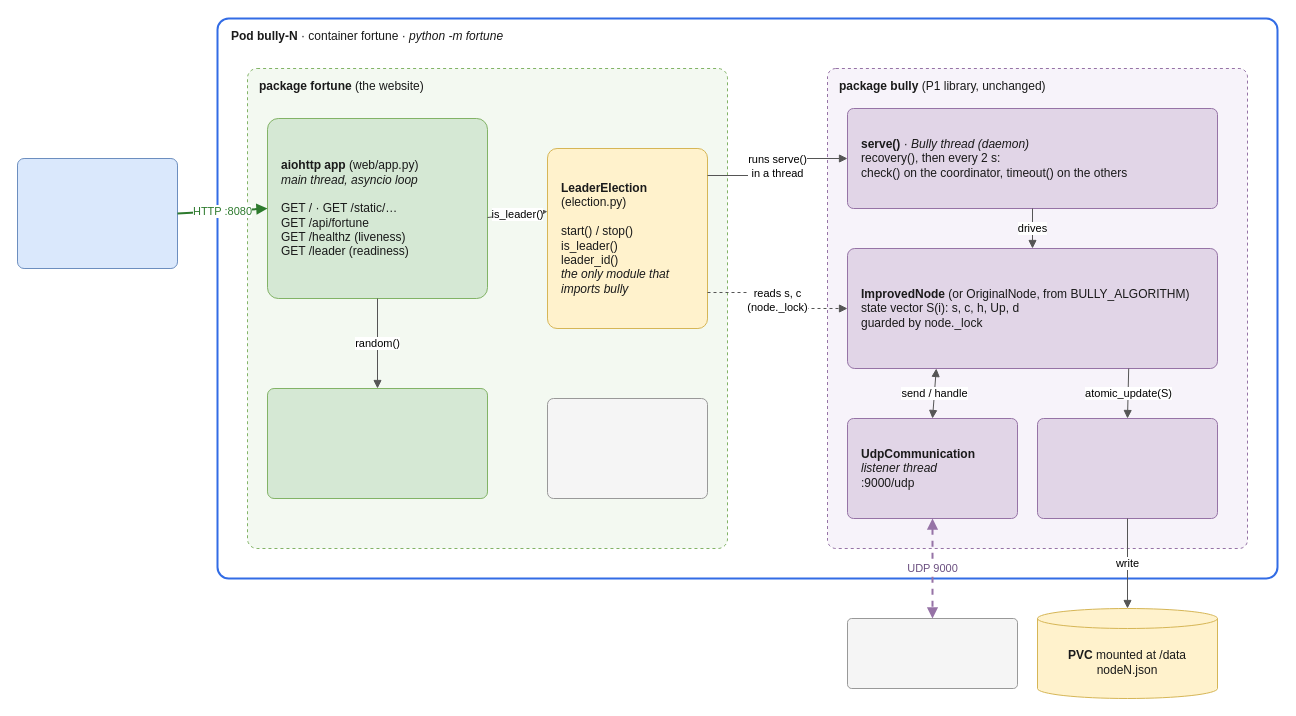
Some shapes in this 1296 by 716 pixel diagram are drawn without their labels. Each missing label, with the centre of its shape:
"__main__.py wires the parts config.py : WEB_PORT, LOG_LEVEL" belongs at point 627,448.
"FortuneSource (fortunes.py) fortunes.txt held in memory random()" belongs at point 377,443.
"LoggingStorage atomic_update() logs each state change" belongs at point 1127,468.
"Other pods bully-M.bully:9000" belongs at point 932,653.
"Service fortune-web and kubelet probes" belongs at point 97,213.
